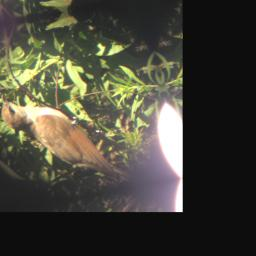Cuckoo: (0, 72, 138, 206)
